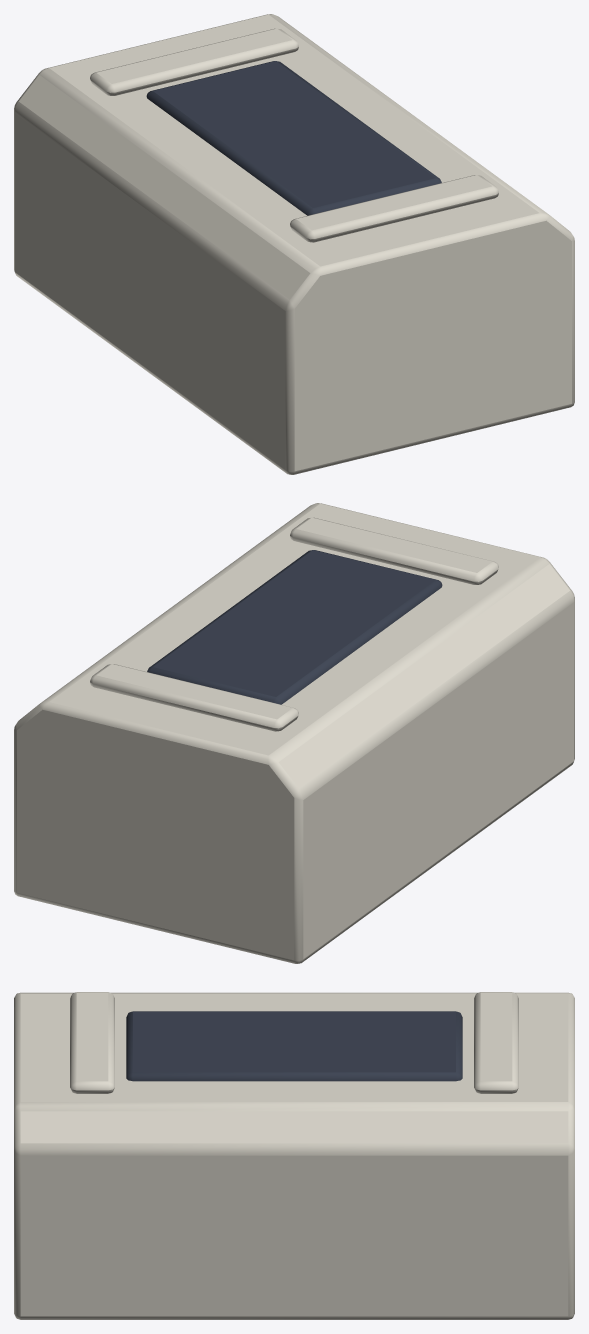
File: ware_salzblock.fbx
The picture shows the model from 3 angles, top to bottom: view 1: azimuth 30°, elevation 25°; view 2: azimuth 150°, elevation 25°; view 3: azimuth 270°, elevation 25°; orthographic projection.
Visible parts, largest first — view 1: ware_salzblock_Koerper; view 2: ware_salzblock_Koerper; view 3: ware_salzblock_Koerper.
Part boxes in pixels (x1=…): ware_salzblock_Koerper: x1=14, y1=14, x2=574, y2=474; ware_salzblock_Koerper: x1=14, y1=503, x2=574, y2=963; ware_salzblock_Koerper: x1=14, y1=992, x2=574, y2=1319.
Bounding box in the file's own units: 0.3 × 0.211 × 0.5.
